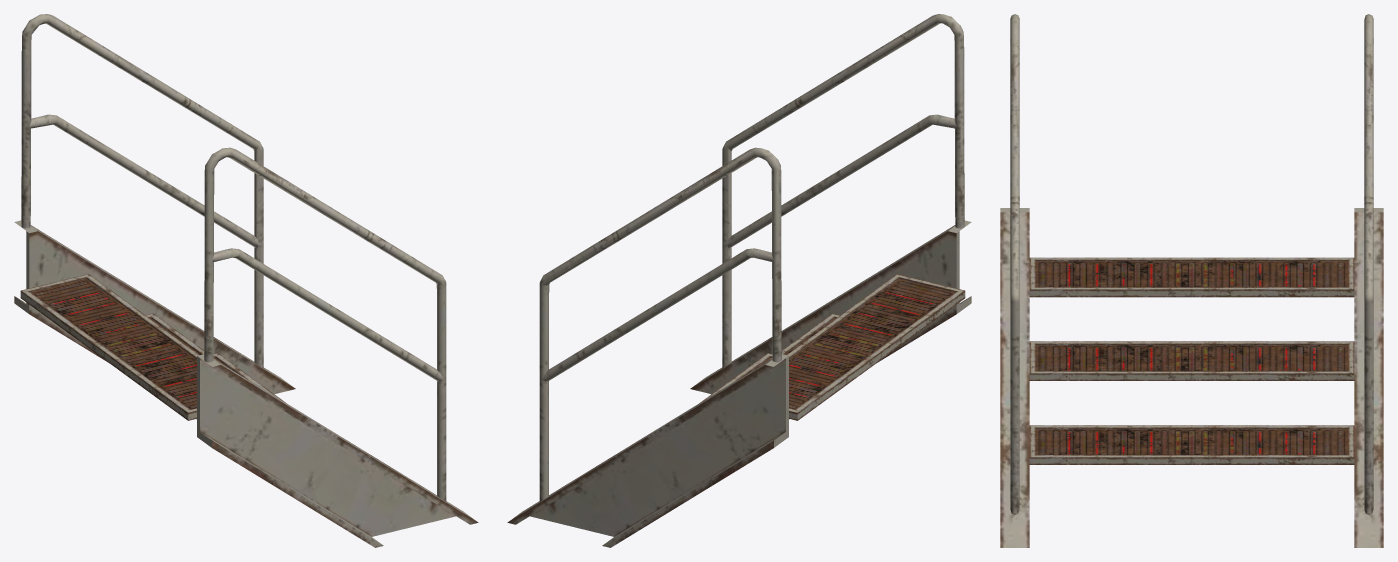
File: stairs_100.glb
3 views of the same model, side by side, from view 1: azimuth 30°, elevation 25°; view 2: azimuth 150°, elevation 25°; view 3: azimuth 270°, elevation 25° (orthographic). The views are drawn at different scales.
Parts seen in each view (by area): view 1: stairs_100; view 2: stairs_100; view 3: stairs_100.
Boxes of the visible parts, x1,y1,x2,y2 form: stairs_100: (14, 14, 478, 547); stairs_100: (507, 14, 971, 547); stairs_100: (1000, 14, 1383, 547).
Bounding box in the file's own units: 1.31 × 1.94 × 1.63.
2 materials, 2 textured.
